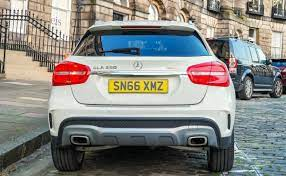number_plate: (104, 76, 180, 96)
